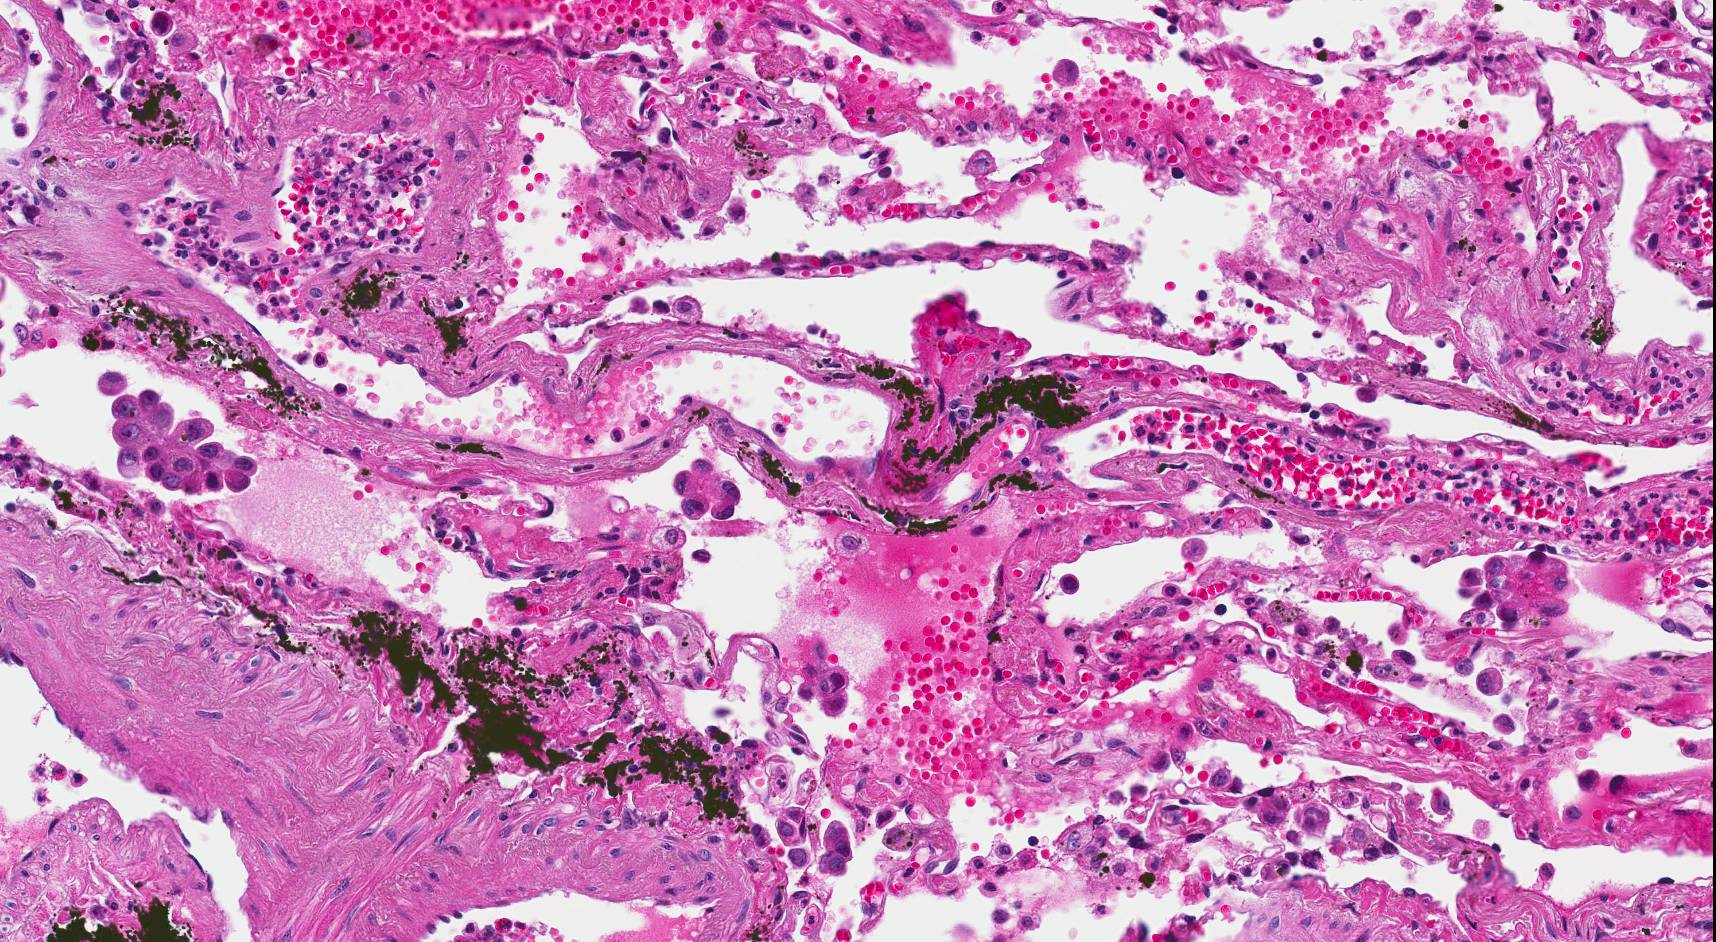stas: (108, 388, 255, 492), (1452, 549, 1578, 624), (674, 460, 741, 520), (797, 660, 849, 716), (818, 822, 854, 877)
